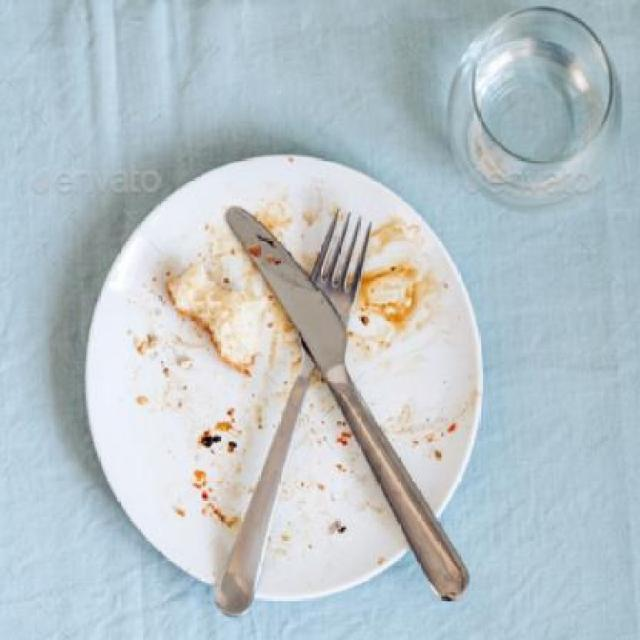Glass: (448, 4, 626, 210)
Plate: (82, 154, 486, 594)
